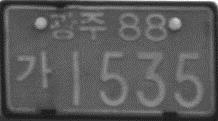1: (69, 50, 83, 107)
3: (133, 48, 166, 108)
5: (172, 49, 204, 109), (98, 48, 129, 107)
8: (117, 12, 141, 42), (144, 12, 168, 42)
가: (14, 51, 52, 90)
광주_O: (47, 10, 106, 42)
